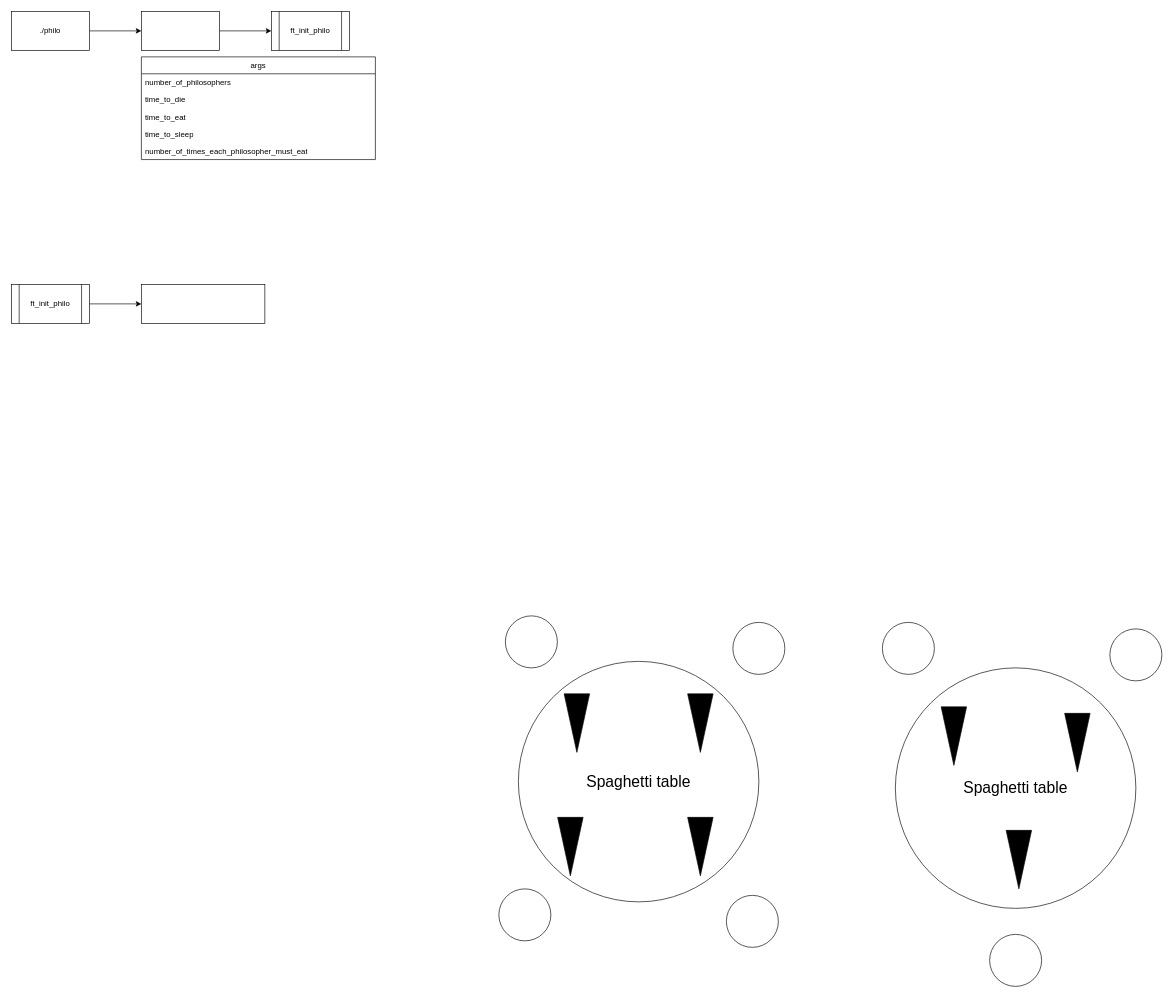
The diagram is 1173 pixels wide and 1004 high, and some of its shapes have lost their labels. The shapes that lost their labels are listed below. From the top down, each one's centre as x and y in pixels, then its label:
At point 180,30: "validate input".
At point 203,303: "init ft_eat(time_to_eat) init ft_sleep init ft_think".
